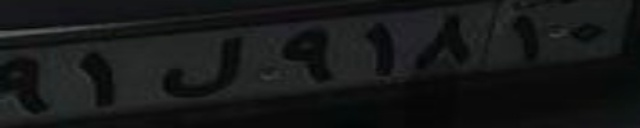0: (565, 22, 607, 44)
1: (74, 49, 117, 108), (362, 19, 395, 76), (506, 12, 540, 60)
8: (413, 13, 472, 68)
9: (279, 26, 337, 83), (0, 52, 52, 113)
lam: (160, 35, 242, 97)
